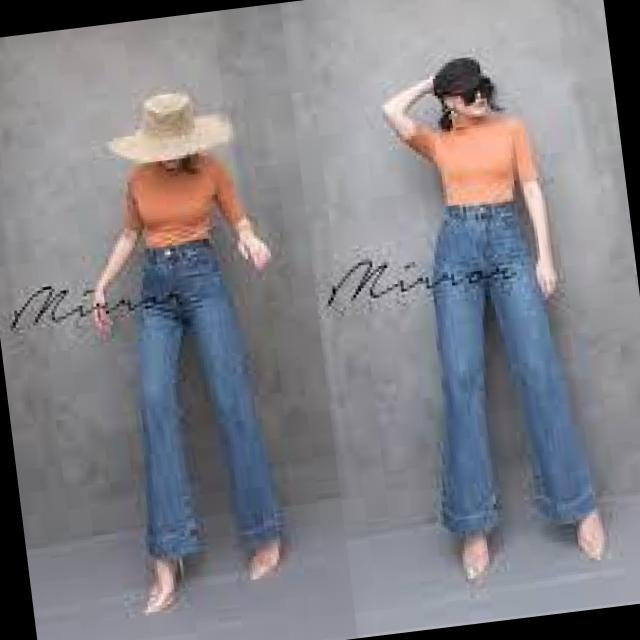Tshirt: (100, 140, 275, 275), (397, 104, 545, 222)
pants: (400, 187, 610, 538), (108, 235, 300, 573)
